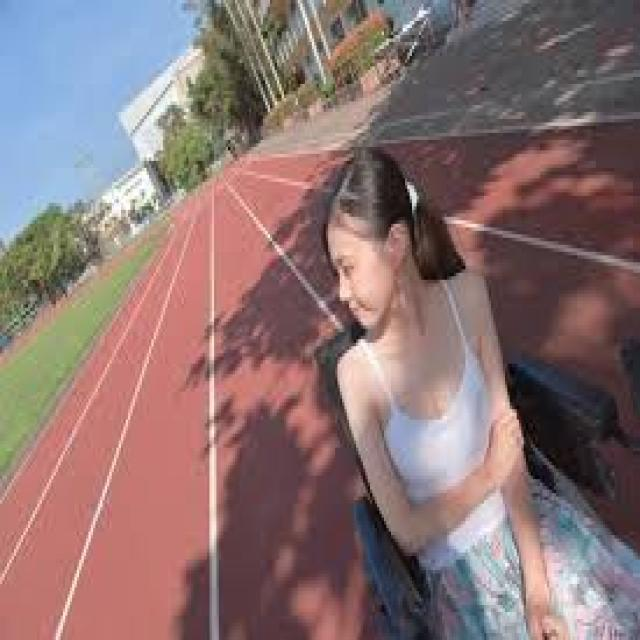wheelchairs: (305, 287, 633, 636)
